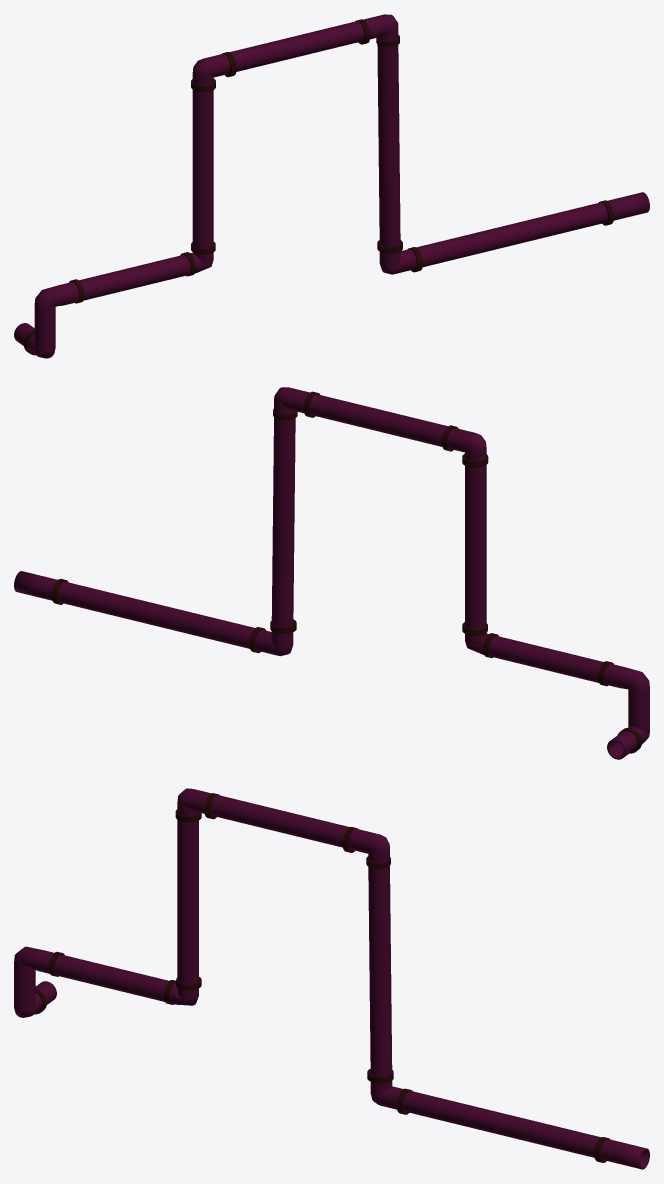
Rendered from パイプ４.fbx.
3 views of the same model, one above another, from view 1: azimuth 30°, elevation 25°; view 2: azimuth 150°, elevation 25°; view 3: azimuth 330°, elevation 25° (orthographic). The views are drawn at different scales.
Visible parts, largest first — view 1: NURBSパス.001; view 2: NURBSパス.001; view 3: NURBSパス.001.
Boxes of the visible parts, left/top/right/bottom form: NURBSパス.001: left=14, top=14, right=649, bottom=358; NURBSパス.001: left=14, top=387, right=649, bottom=759; NURBSパス.001: left=14, top=788, right=649, bottom=1169.
Bounding box in the file's own units: 16.01 × 6.6 × 1.31.
